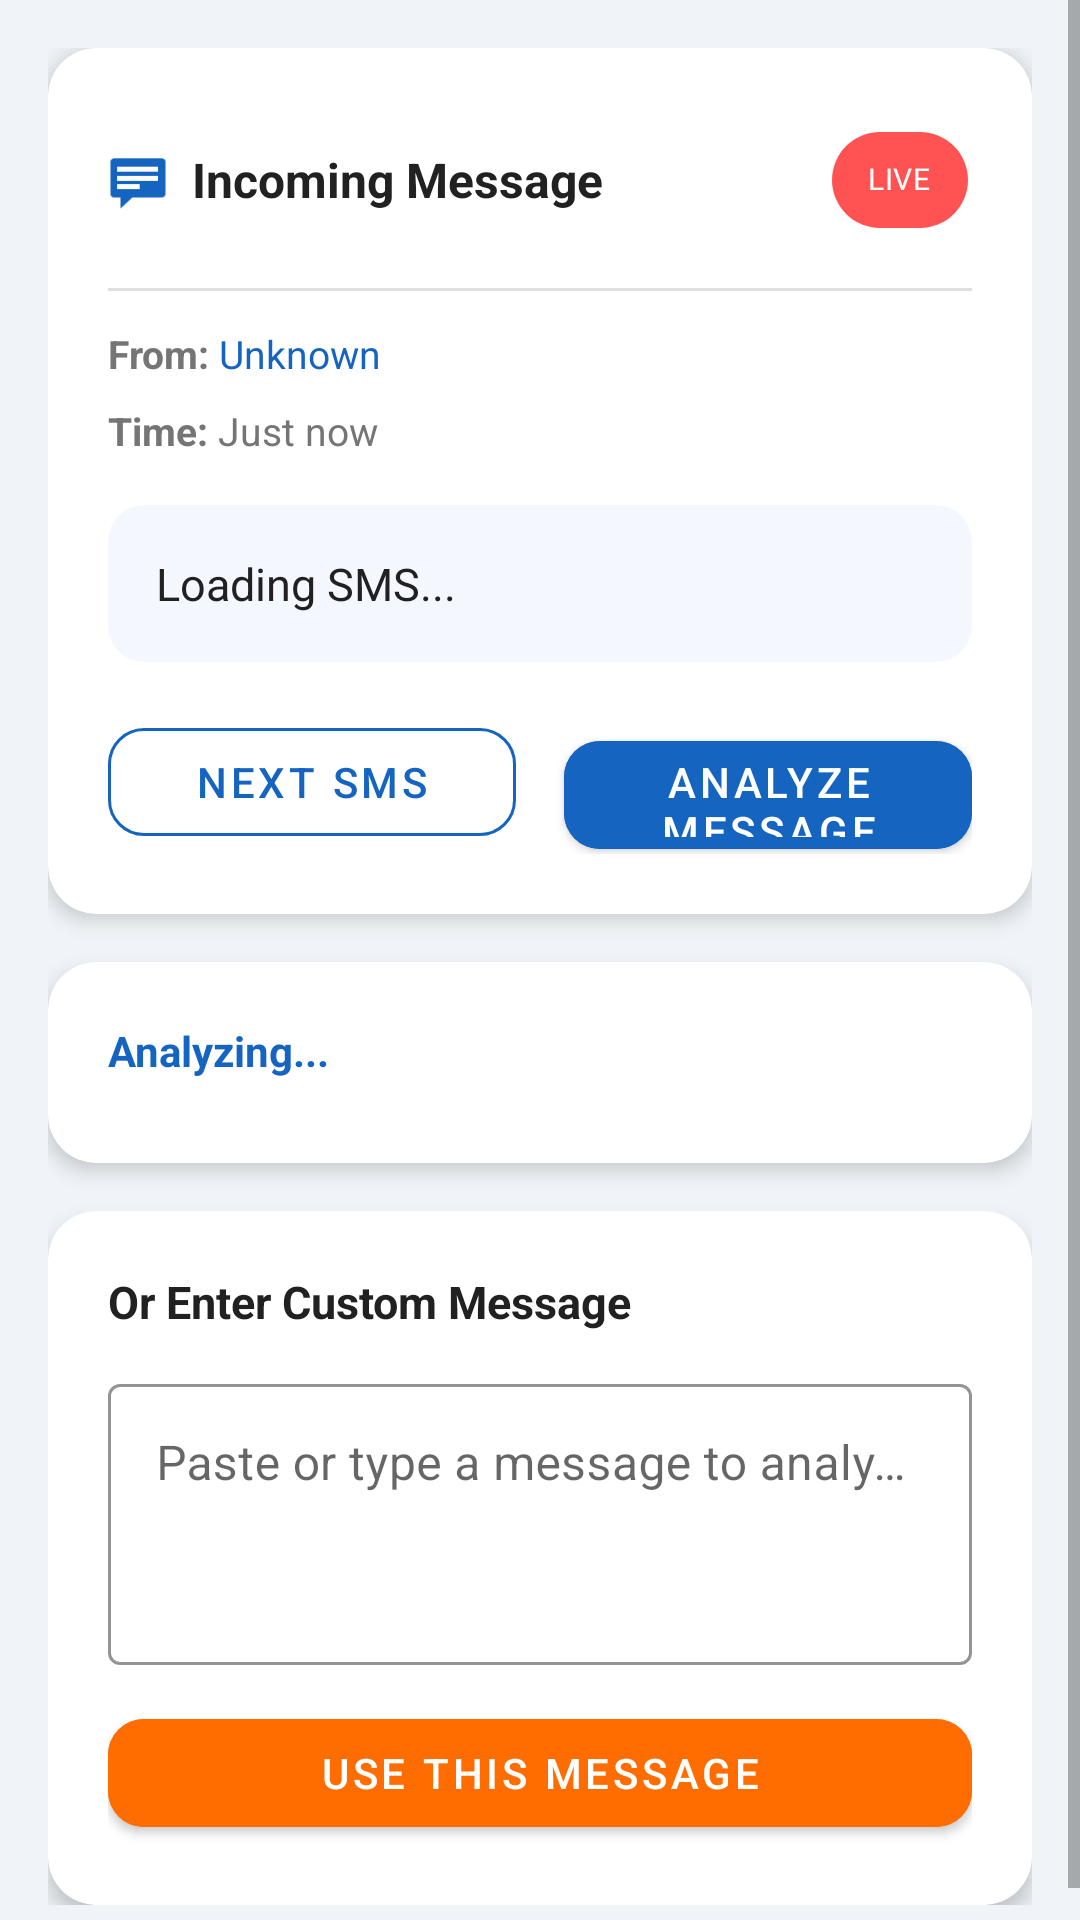

Named icons in this screenshot (1080 × 1920) and their bounding boxes, (x1, y1, x2, y2):
chat: (110, 158, 166, 209)
